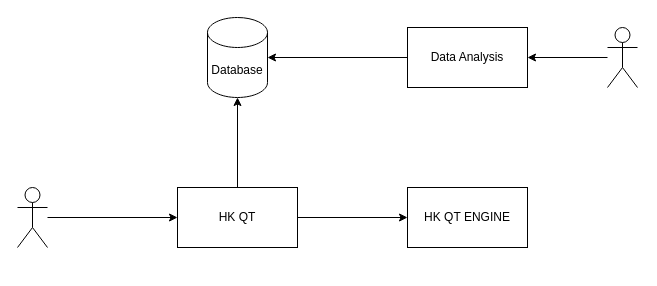
This 657x286 diagram has some shape labels left out. The centre of each missing label's shape, as x and y in pixels:
"Admin" belongs at pixel 622 57.
"User" belongs at pixel 32 217.
